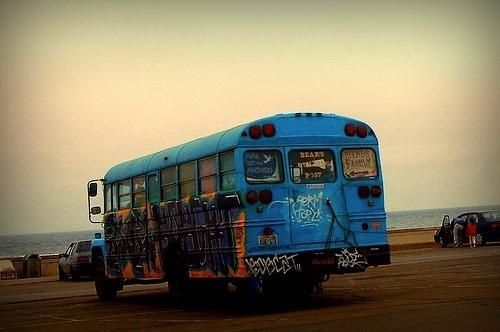bus: (88, 113, 389, 306)
car: (434, 210, 500, 246), (58, 240, 93, 281)
